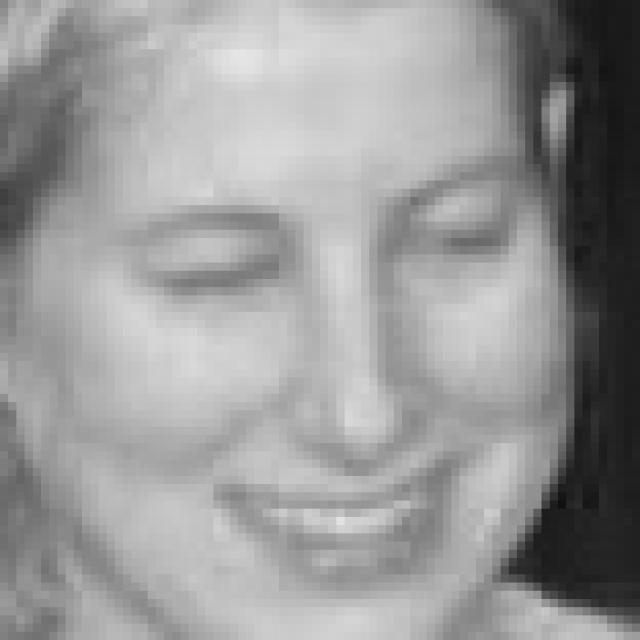real: (19, 18, 576, 628), (132, 182, 534, 294)
